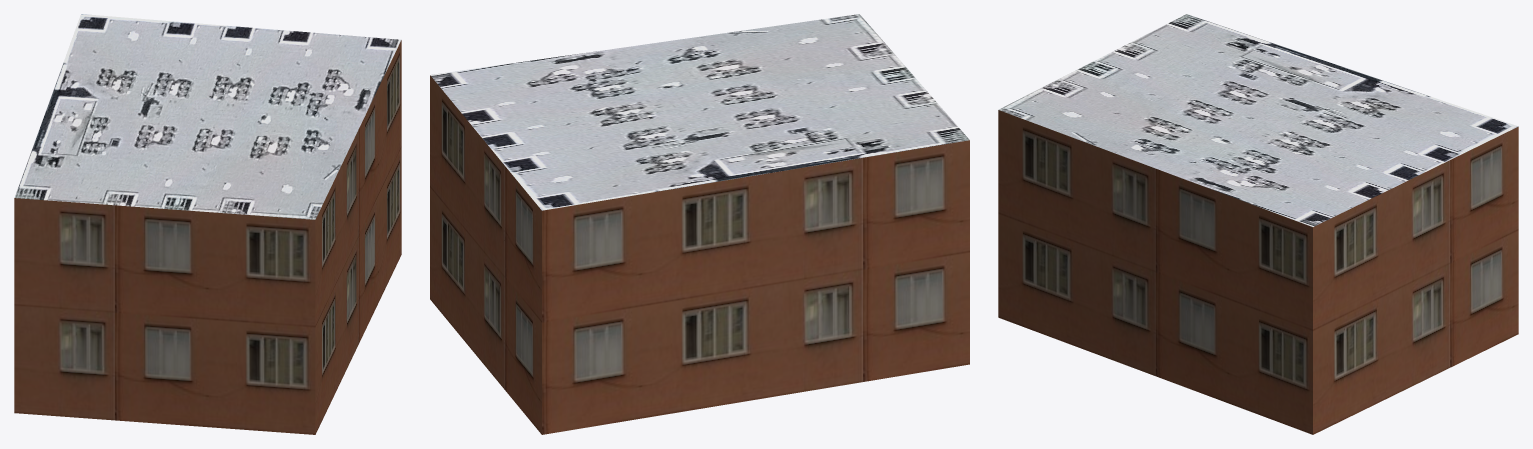
File: ResTex__1350.fbx
The picture shows the model from 3 angles, left to right: view 1: azimuth 30°, elevation 25°; view 2: azimuth 150°, elevation 25°; view 3: azimuth 270°, elevation 25°; orthographic projection. The views are drawn at different scales.
Parts seen in each view (by area): view 1: CityEngineMaterial_20_m, CityEngineMaterial_8_m; view 2: CityEngineMaterial_20_m, CityEngineMaterial_8_m; view 3: CityEngineMaterial_20_m, CityEngineMaterial_8_m.
Boxes of the visible parts, left/top/right/bottom form: CityEngineMaterial_20_m: left=14, top=40, right=401, bottom=434; CityEngineMaterial_8_m: left=14, top=14, right=401, bottom=219; CityEngineMaterial_20_m: left=430, top=75, right=969, bottom=434; CityEngineMaterial_8_m: left=430, top=14, right=969, bottom=210; CityEngineMaterial_20_m: left=998, top=110, right=1518, bottom=434; CityEngineMaterial_8_m: left=998, top=14, right=1518, bottom=226.
Bounding box in the file's own units: 13.21 × 6 × 13.63.
2 materials, 2 textured.
